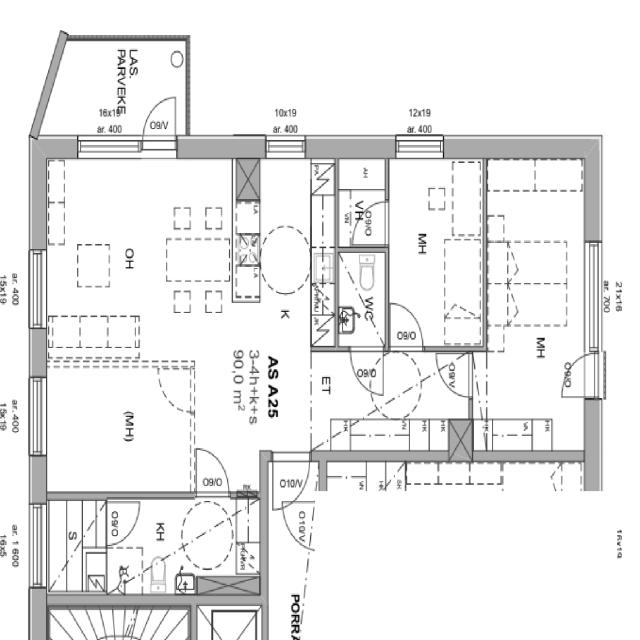door: (272, 454, 311, 508), (191, 444, 231, 496), (387, 298, 426, 351), (156, 364, 195, 415), (562, 351, 602, 399), (348, 343, 384, 395), (350, 200, 390, 246), (436, 349, 472, 399), (106, 499, 142, 548), (142, 94, 178, 142)
window: (582, 240, 606, 356), (25, 374, 50, 464), (27, 500, 49, 592), (26, 248, 49, 333), (76, 135, 143, 159), (395, 136, 446, 160), (264, 135, 308, 159)
zone: (44, 152, 312, 361), (478, 151, 588, 453), (38, 368, 196, 496), (387, 156, 483, 350), (315, 349, 474, 456), (99, 495, 259, 595), (35, 36, 188, 133), (41, 498, 108, 598), (337, 249, 388, 347), (336, 157, 389, 247)
